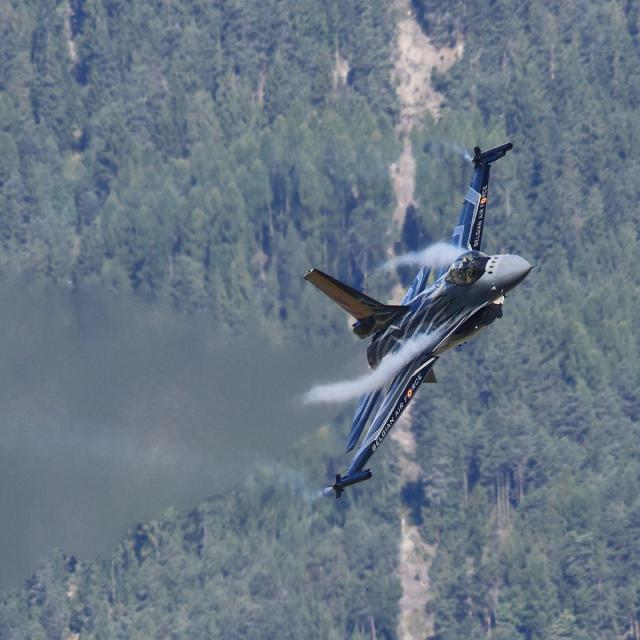MIL_Plane: (303, 142, 538, 499)
